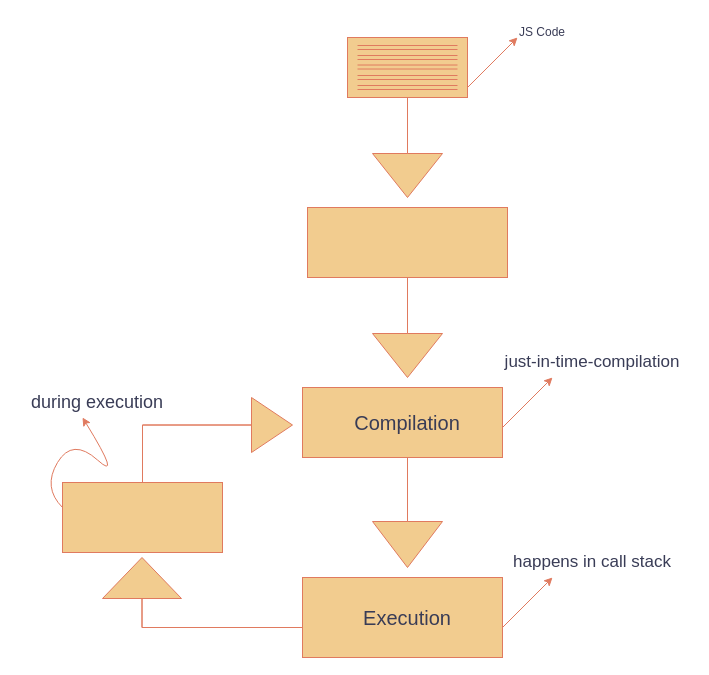
This 709x675 diagram has some shape labels left out. Each missing label, with the centre of its shape:
"Optimization" belongs at [142,517].
"Parsing" belongs at [407,242].
